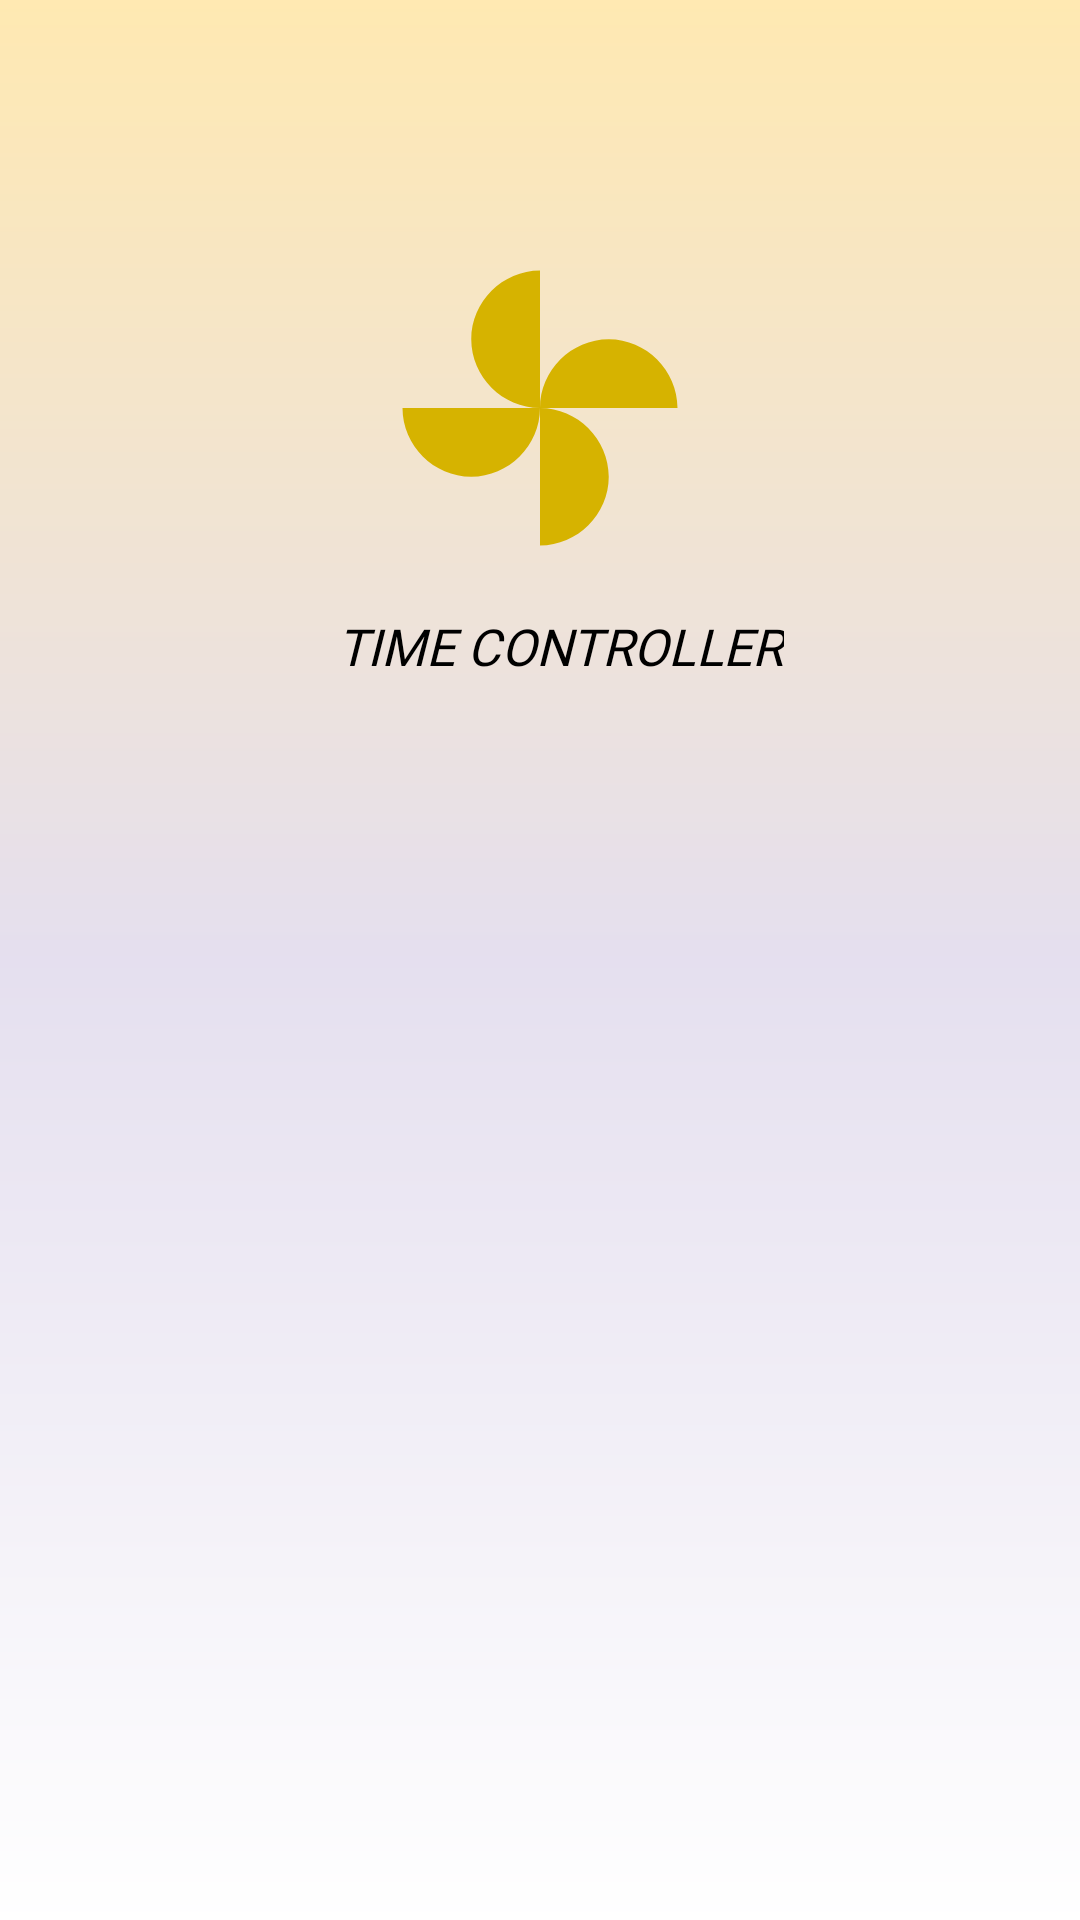

Screen size 1080px×1920px. Icon name, then its box in pixels as (x1, y1, x2, y2):
fan: (390, 258, 690, 546)
